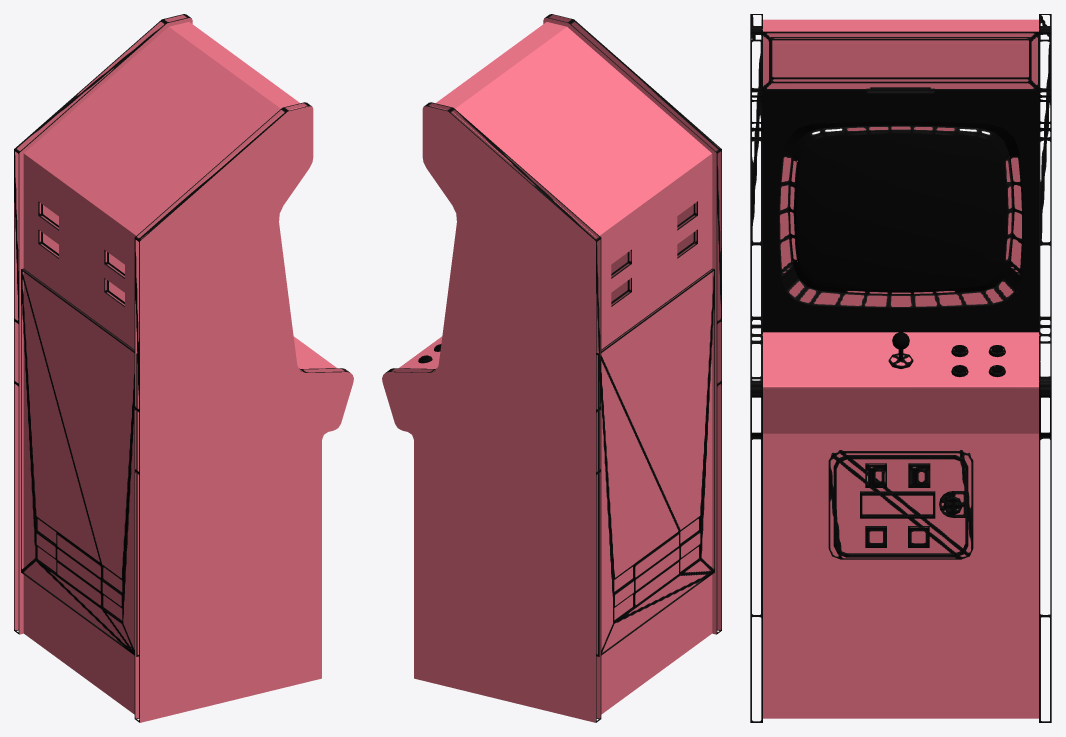
File: arcade.fbx
3 renders of one model, left to right at view 1: azimuth 30°, elevation 25°; view 2: azimuth 150°, elevation 25°; view 3: azimuth 270°, elevation 25°, orthographic. The views are drawn at different scales.
Parts seen in each view (by area): view 1: Bbase_26; view 2: Bbase_26; view 3: Bbase_26.
Boxes of the visible parts, box(x1,y1,x2,y2) form: Bbase_26: box(14, 14, 353, 722); Bbase_26: box(382, 14, 721, 722); Bbase_26: box(750, 14, 1051, 722).
Bounding box in the file's own units: 89.93 × 231 × 91.65.
1 material, 1 textured.
